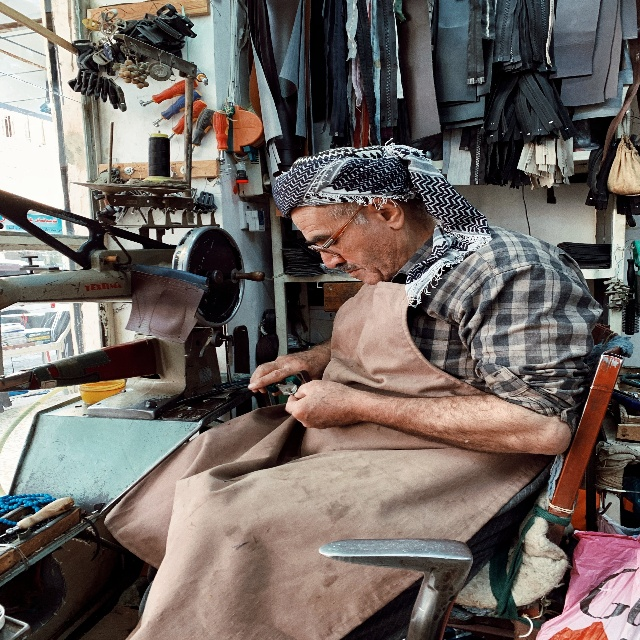Gafas: (307, 197, 370, 259)
Sin_guantes: (284, 378, 363, 429), (247, 346, 326, 396)
